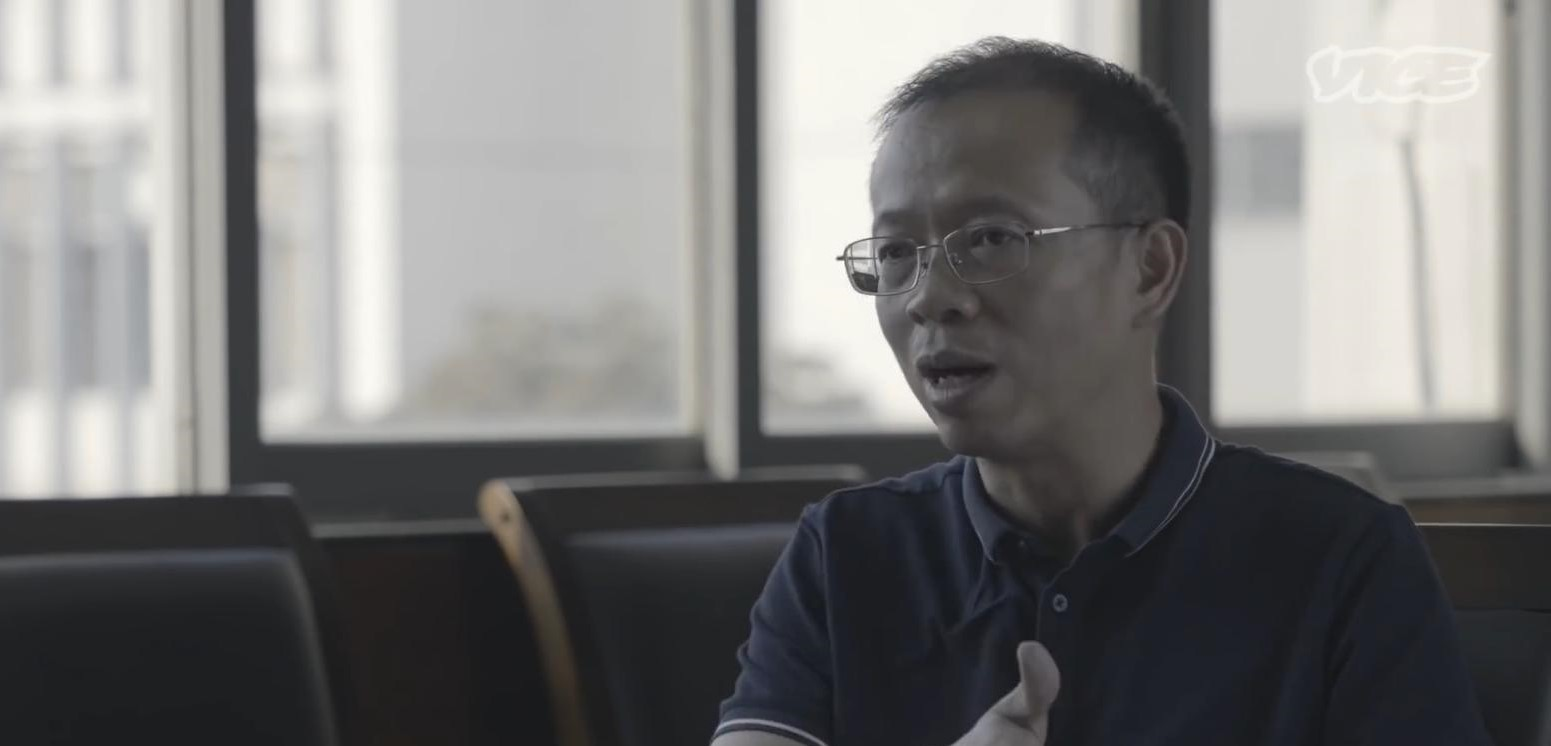without_mask: (880, 206, 1079, 401)
